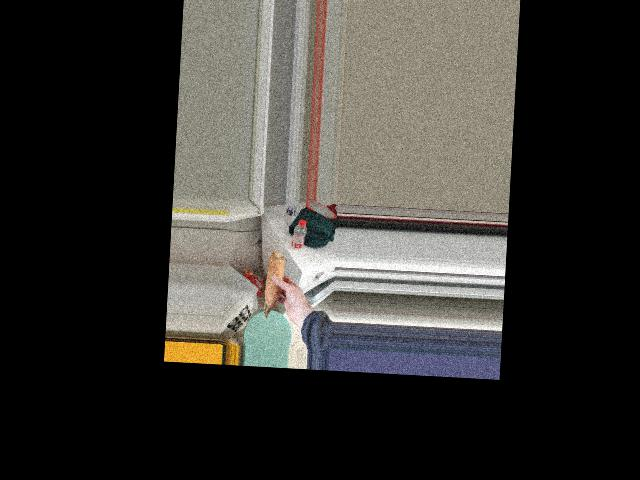sweet_potato: (263, 248, 288, 317)
